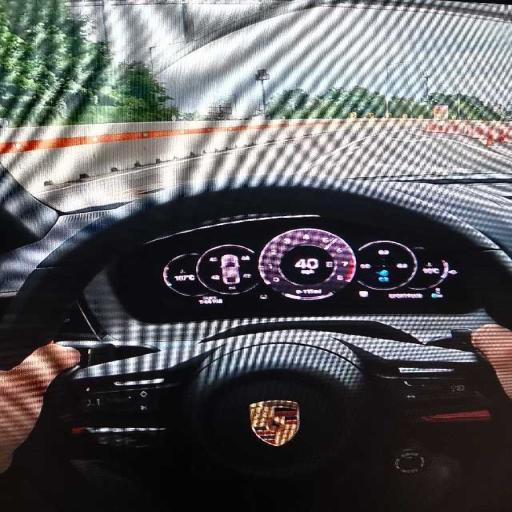car: (0, 0, 511, 511)
lane: (40, 129, 510, 210)
person: (0, 344, 79, 472)
